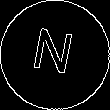N_S: (30, 26, 80, 84)
